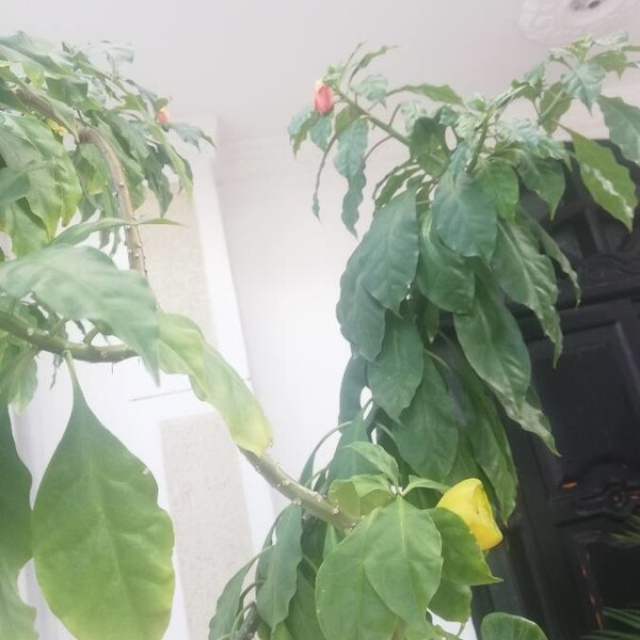obstacle: (293, 39, 603, 623), (7, 27, 238, 635)
